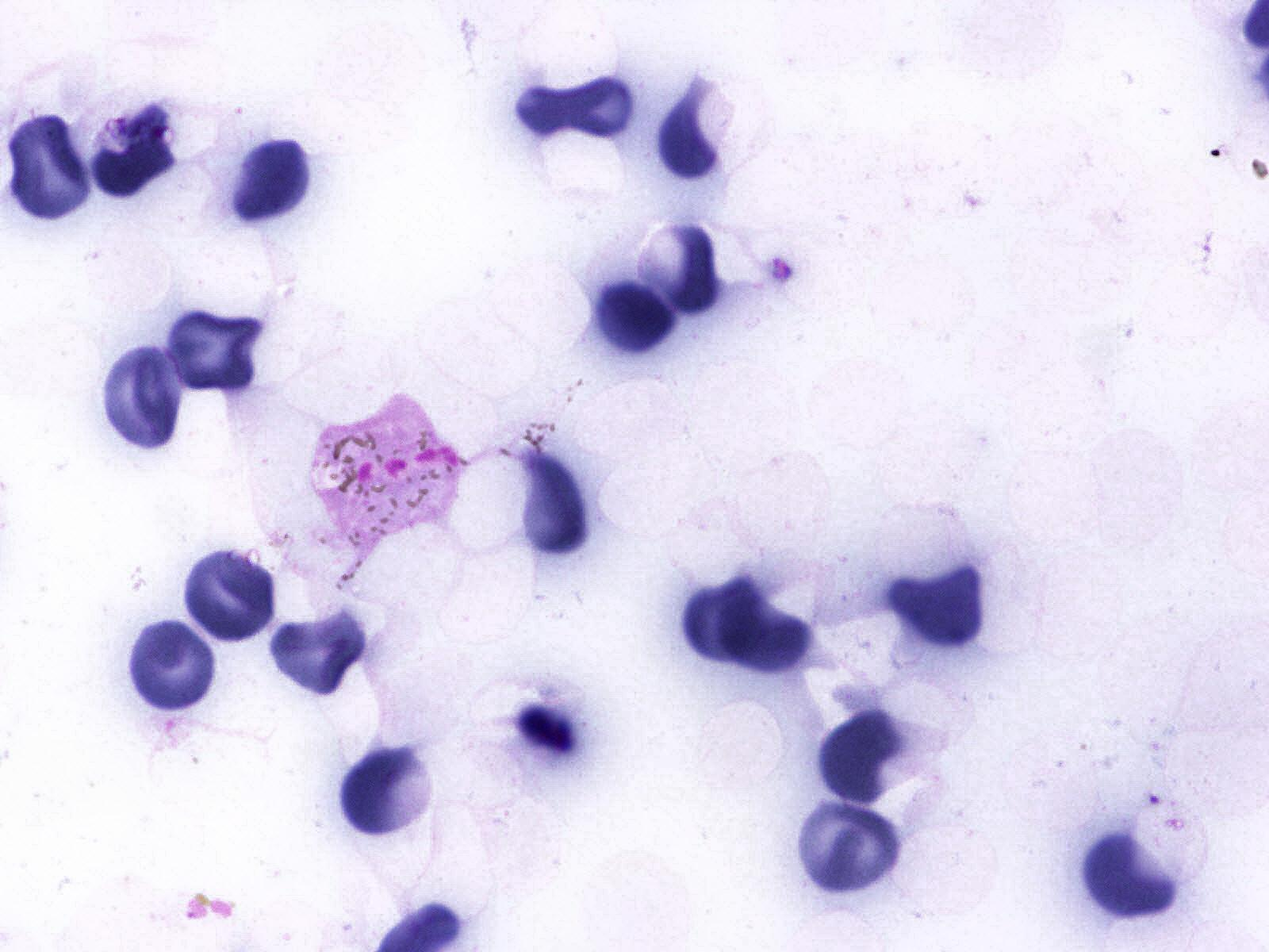Uninfected: (794, 801, 902, 895), (7, 112, 97, 223), (178, 544, 278, 643), (335, 742, 436, 840), (713, 585, 815, 681), (818, 703, 904, 810), (82, 103, 177, 199), (101, 344, 183, 453), (886, 553, 980, 648), (513, 71, 637, 142), (268, 610, 369, 695), (681, 570, 771, 665), (128, 616, 215, 712), (166, 310, 262, 396), (1082, 831, 1178, 917), (228, 132, 316, 222), (636, 224, 720, 316), (655, 75, 719, 182), (593, 278, 676, 357)
